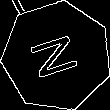N_E: (27, 29, 87, 83)
